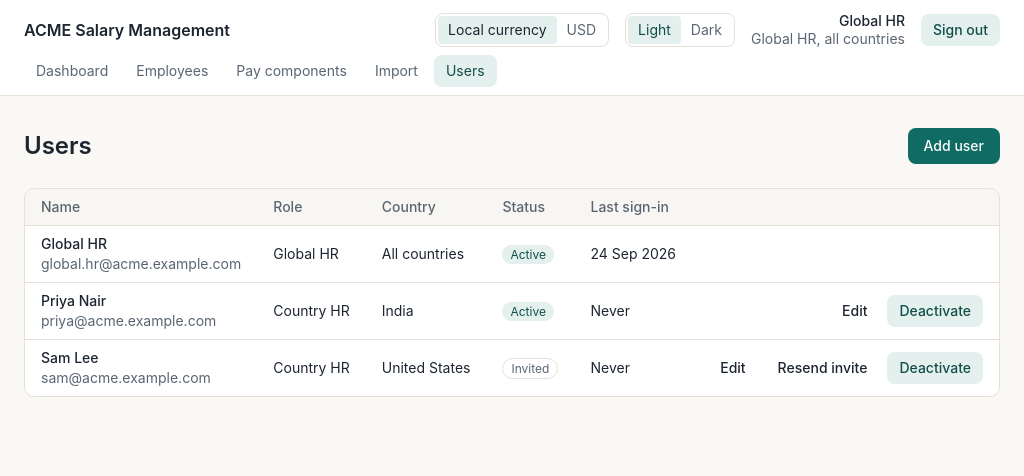
UsersPage › sends a new invite to an invited user
The width and height of the screenshot is (1024, 476).
Expected: the text "Sam Lee" is shown, [41,349,98,366]
Click the button "Resend invite".
click(822, 368)  # box [766,352,879,384]
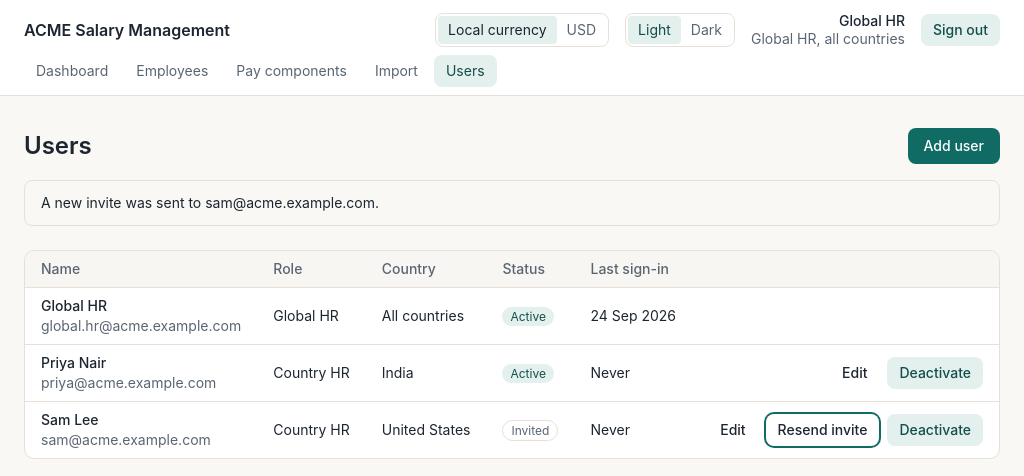
Result: the message reads "A new invite was sent to sam@acme.example.com." at [41,194,379,211]
